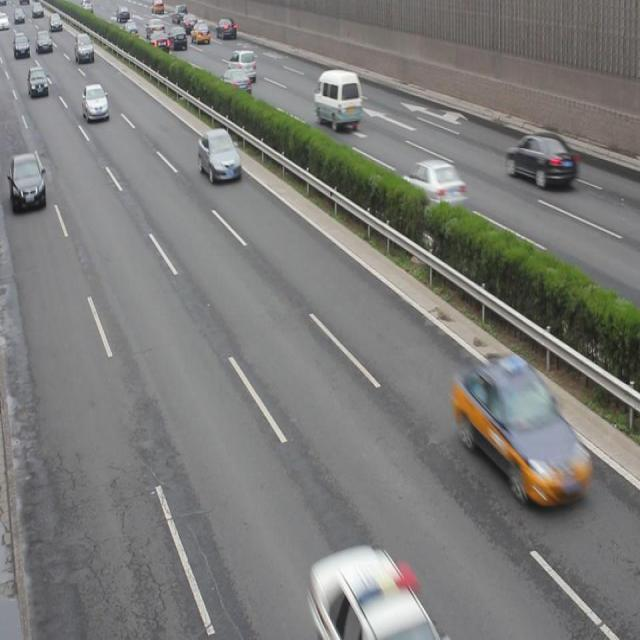car: (454, 355, 589, 507), (311, 545, 434, 640), (505, 131, 575, 191), (398, 160, 465, 218), (197, 126, 240, 186), (9, 152, 47, 211), (220, 68, 252, 103)
truck: (312, 68, 361, 130)
